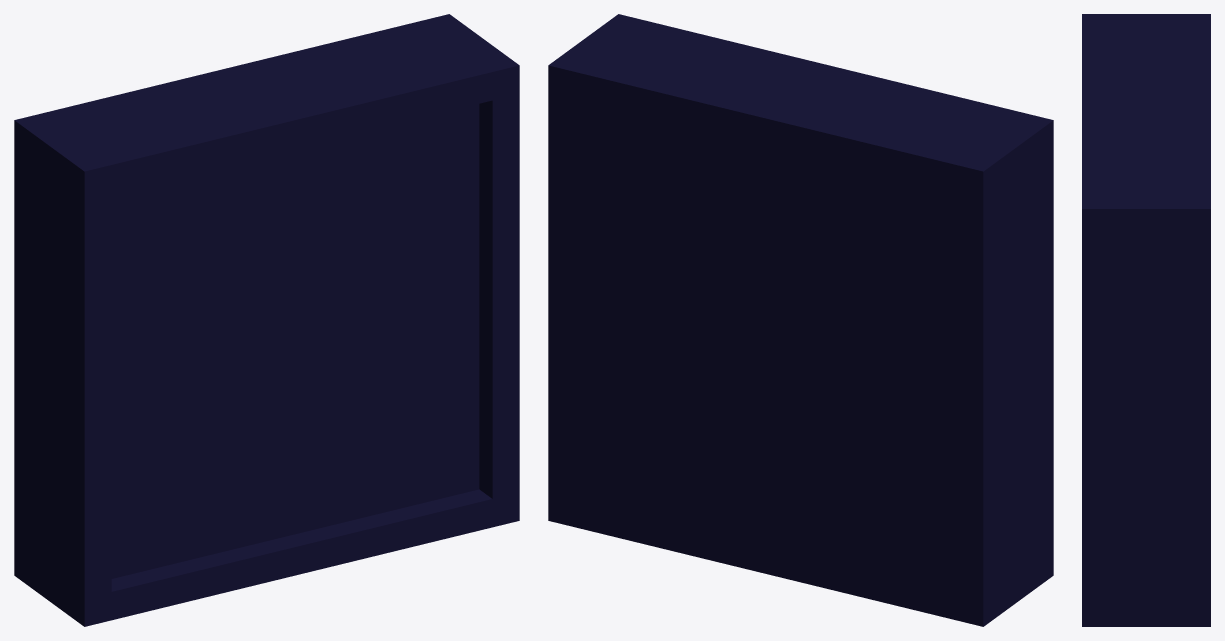
The model's file is windowSil.fbx.
3 views of the same model, side by side, from view 1: azimuth 30°, elevation 25°; view 2: azimuth 150°, elevation 25°; view 3: azimuth 270°, elevation 25° (orthographic). The views are drawn at different scales.
Visible parts, largest first — view 1: Cube; view 2: Cube; view 3: Cube.
Part boxes in pixels (box(x1,y1,x2,y2)): Cube: box(14, 14, 519, 626); Cube: box(548, 14, 1053, 626); Cube: box(1082, 14, 1210, 626).
Size of the model in its own units: 644 by 644 by 180.
